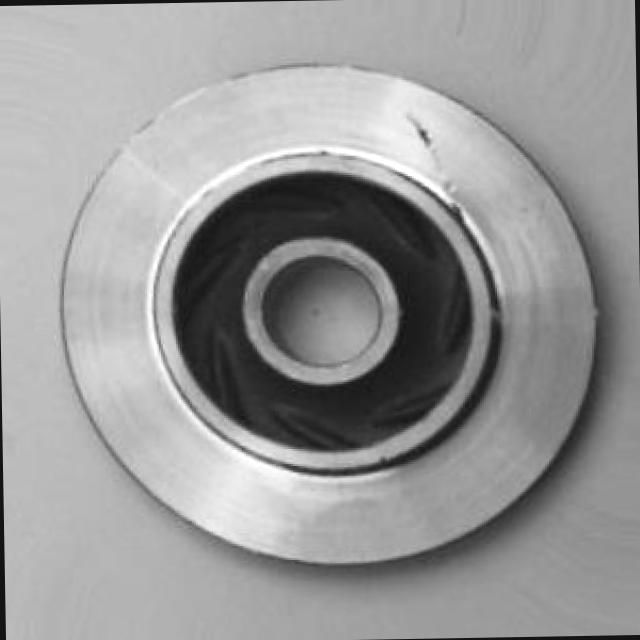Defect: (398, 110, 443, 160)
